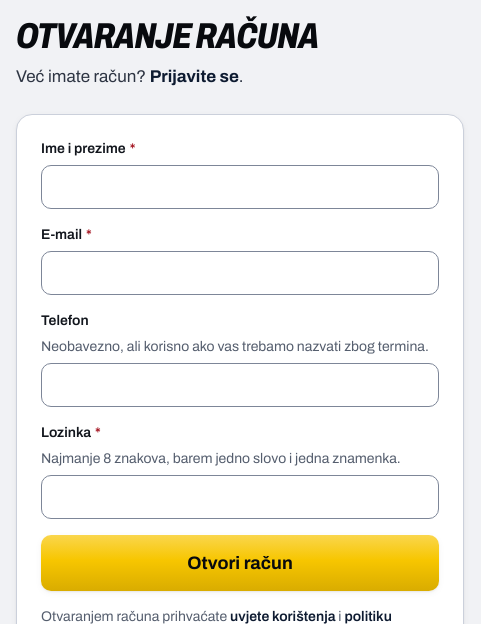
it: obrazac za otvaranje računa › grešku s poslužitelja prikazuje korisniku, a ne guta u konzolu
In the field labelled "Ime i prezime*": {"x": 240, "y": 186} [41,164,439,208], type "Ivan Horvat"
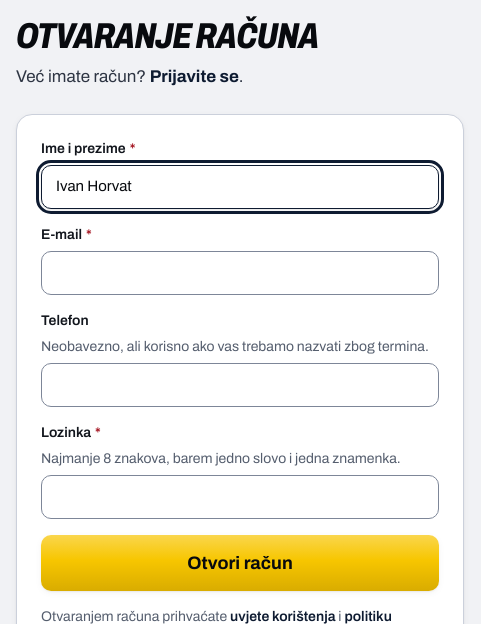
In the field labelled "E-mail*": {"x": 240, "y": 272} [41,250,439,294], type "ivan@primjer.hr"
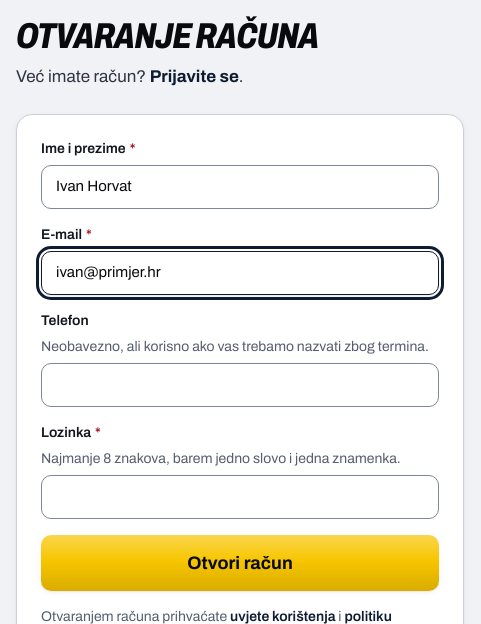
In the password field labelled "Lozinka*": {"x": 240, "y": 496} [41,474,439,518], type "Lozinka123"
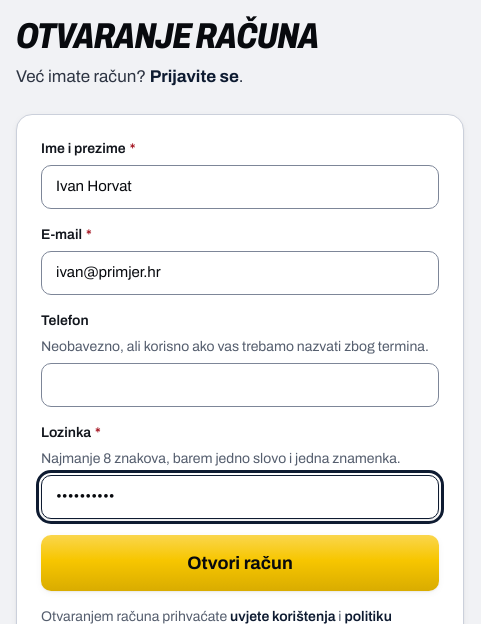
Click the button "Otvori račun": {"x": 240, "y": 562} [41,534,439,590]
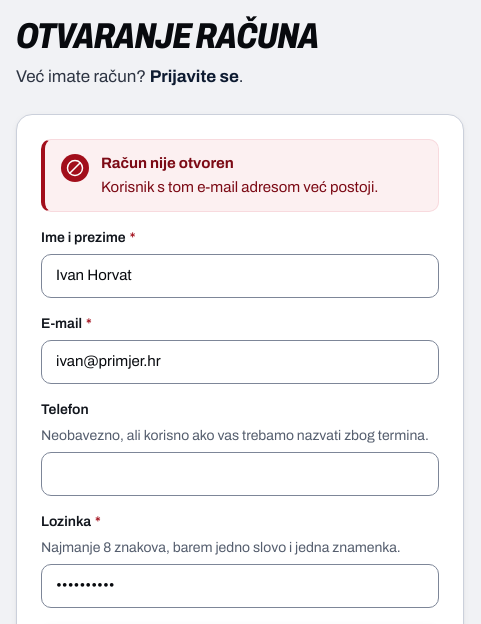
Expected: the text "Korisnik s tom e-mail adresom već postoji." is shown, [101,176,378,198]
